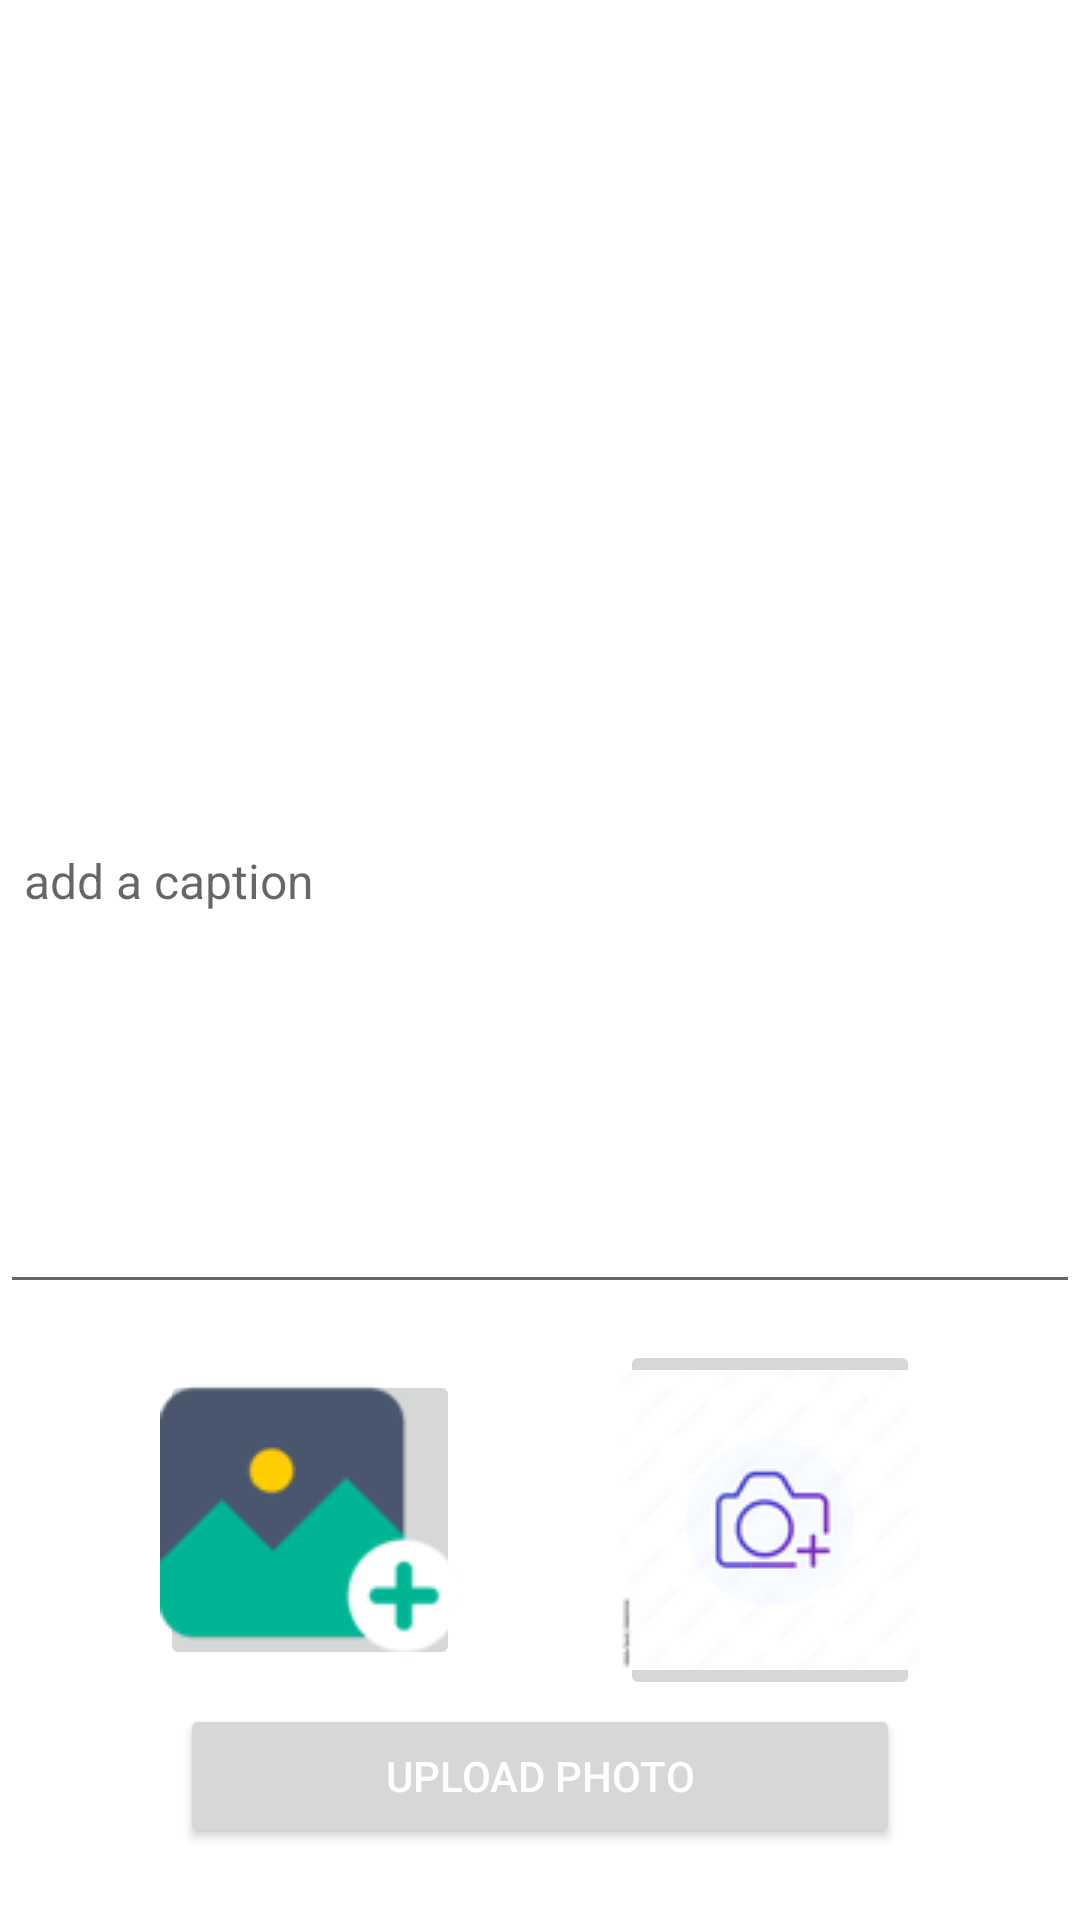

Icon bounding boxes for this 1080x1920 phone screenshot, format (x1, y1, x2, y2):
photo fix: (160, 1387, 448, 1652)
